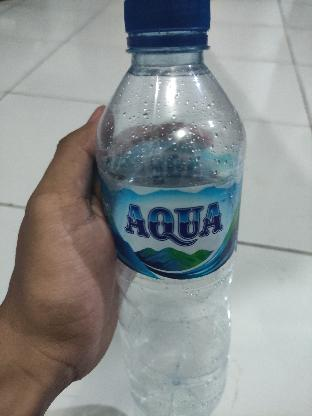Plastic Bottle: (96, 2, 270, 416)
